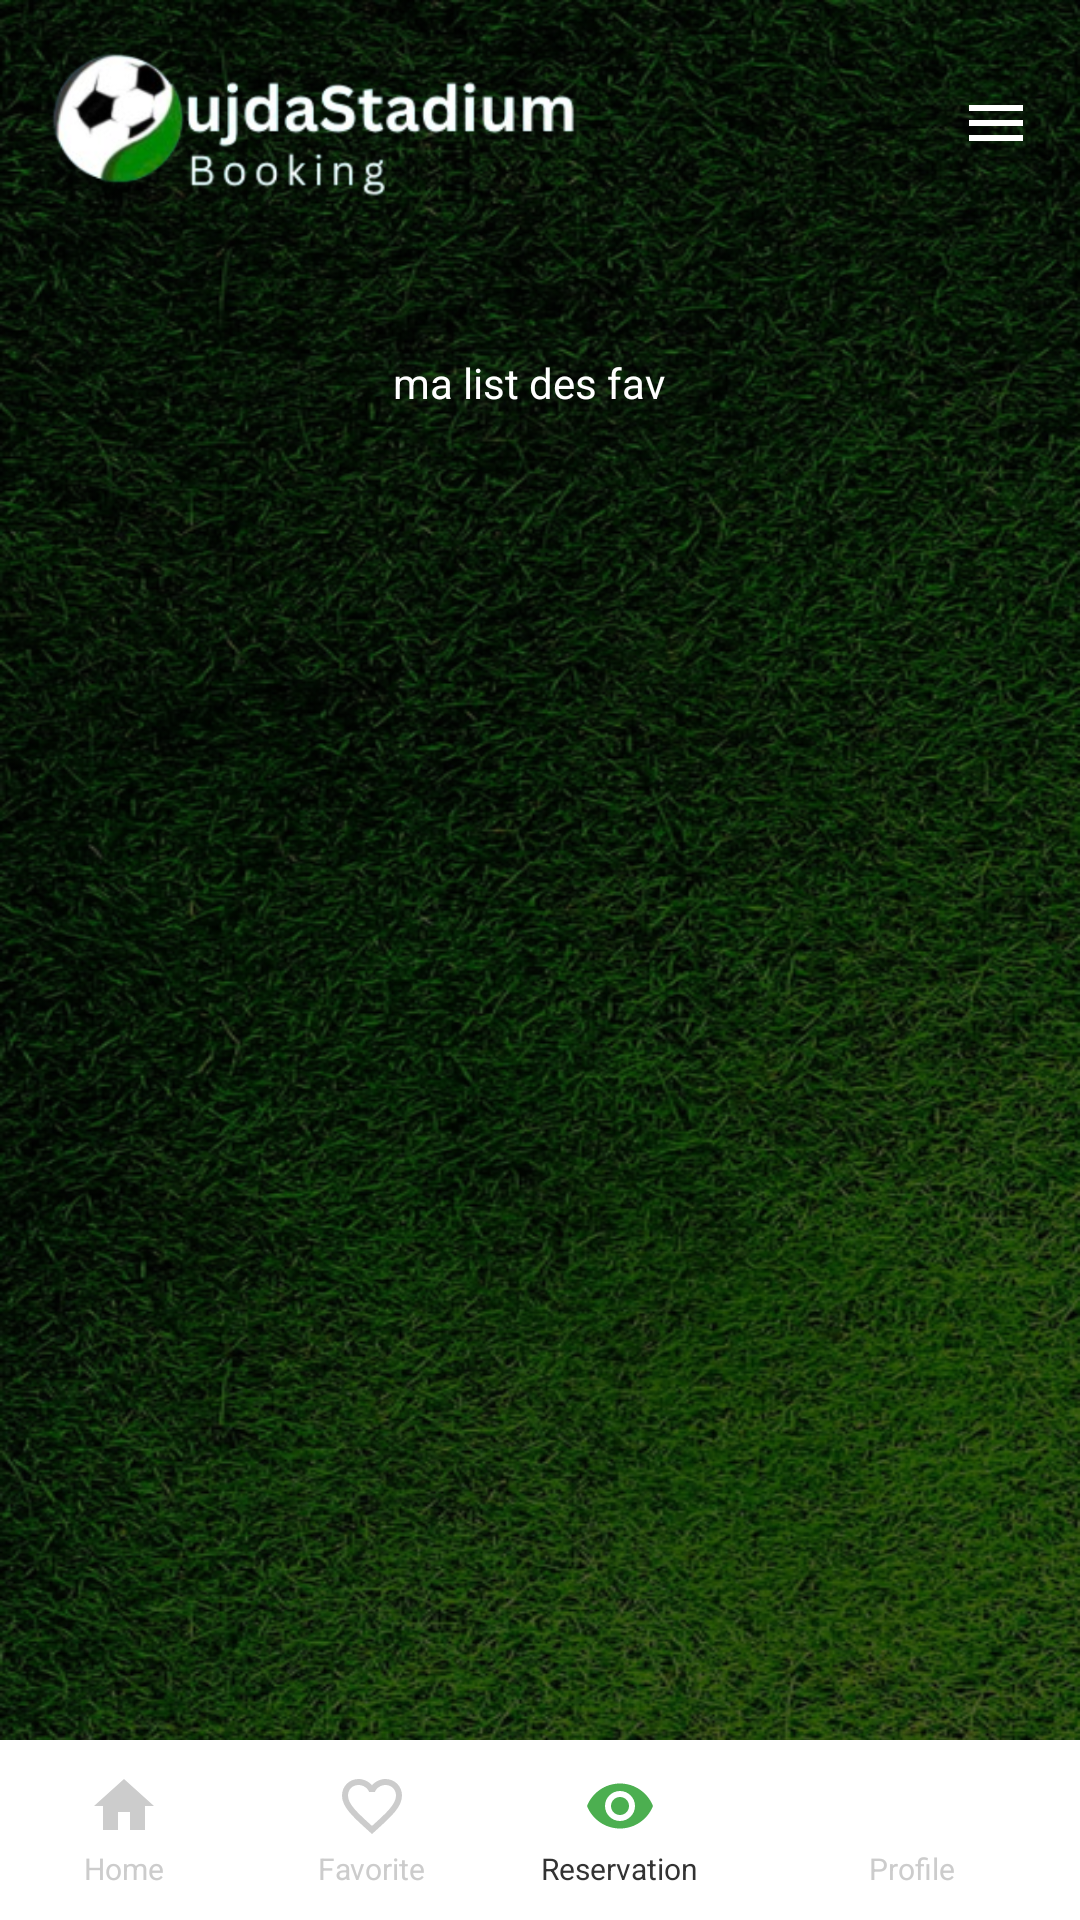

Where icons sit on this 1080*1920 app screen, as bbox=[x1, y1, x2, y2]:
Menu: bbox=[960, 87, 1031, 156]
